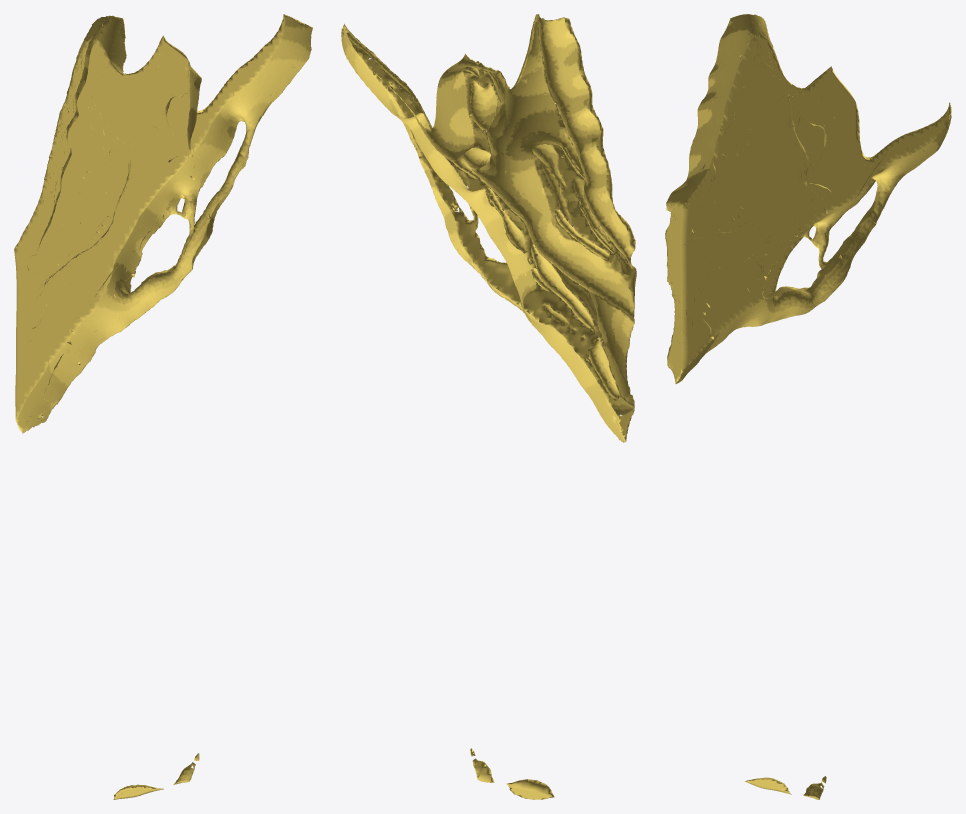
The picture shows the model from 3 angles, left to right: view 1: azimuth 30°, elevation 25°; view 2: azimuth 150°, elevation 25°; view 3: azimuth 330°, elevation 25°; orthographic projection. The views are drawn at different scales.
Visible parts, largest first — view 1: Switch_Switch_osgPicked_gmeGeoEntityGeode_Geometry_0; view 2: Switch_Switch_osgPicked_gmeGeoEntityGeode_Geometry_0, Switch_Switch_osgPicked_gmeGeoEntityGeode_Geometry_Geometry_; view 3: Switch_Switch_osgPicked_gmeGeoEntityGeode_Geometry_0.
Boxes of the visible parts, x1,y1,x2,y2 form: Switch_Switch_osgPicked_gmeGeoEntityGeode_Geometry_0: (14, 14, 312, 433); Switch_Switch_osgPicked_gmeGeoEntityGeode_Geometry_0: (341, 14, 636, 442); Switch_Switch_osgPicked_gmeGeoEntityGeode_Geometry_Geometry_: (507, 779, 554, 799); Switch_Switch_osgPicked_gmeGeoEntityGeode_Geometry_0: (665, 14, 951, 383).
Size of what is drawn, in the model's own units: 28560 by 74261 by 4141.
